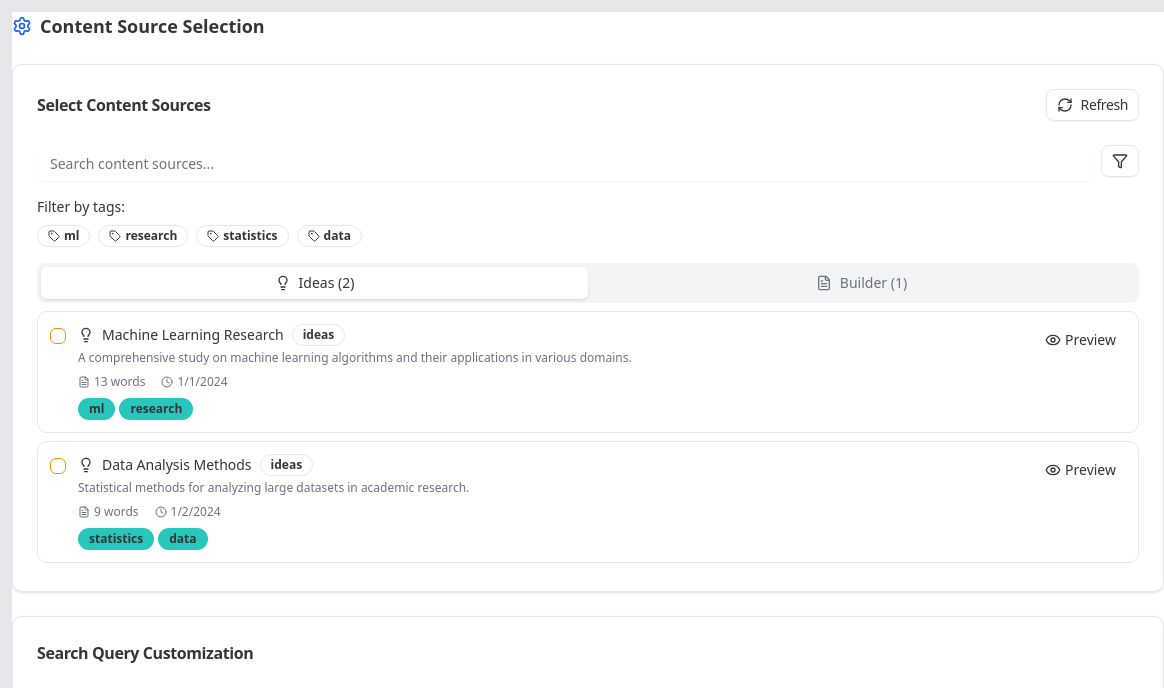
Test case: ContentSourceSelector › allows selecting and deselecting content sources
The width and height of the screenshot is (1164, 688).
Expected: the heading "Machine Learning Research" is shown, top-left (102, 325), bottom-right (284, 345)
Click the checkbox next to "Machine Learning Research": coordinates (58, 336) top-left (50, 328), bottom-right (66, 344)
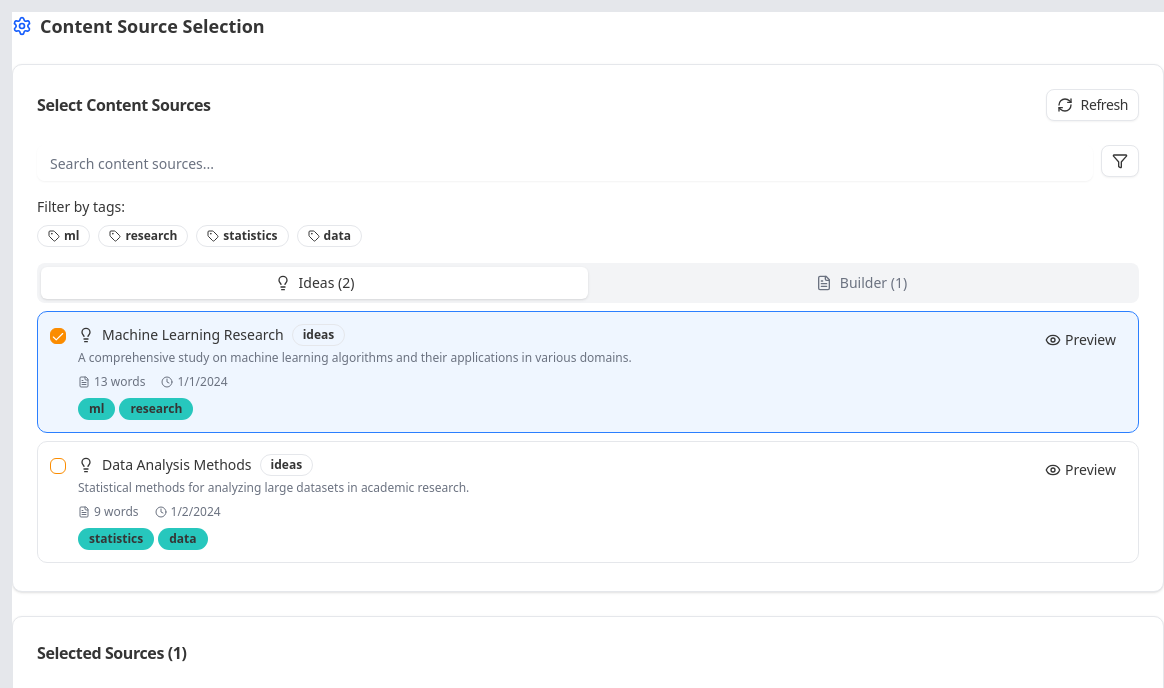
Now the heading "Selected Sources (1)" is shown, box top-left (37, 642), bottom-right (186, 664)
